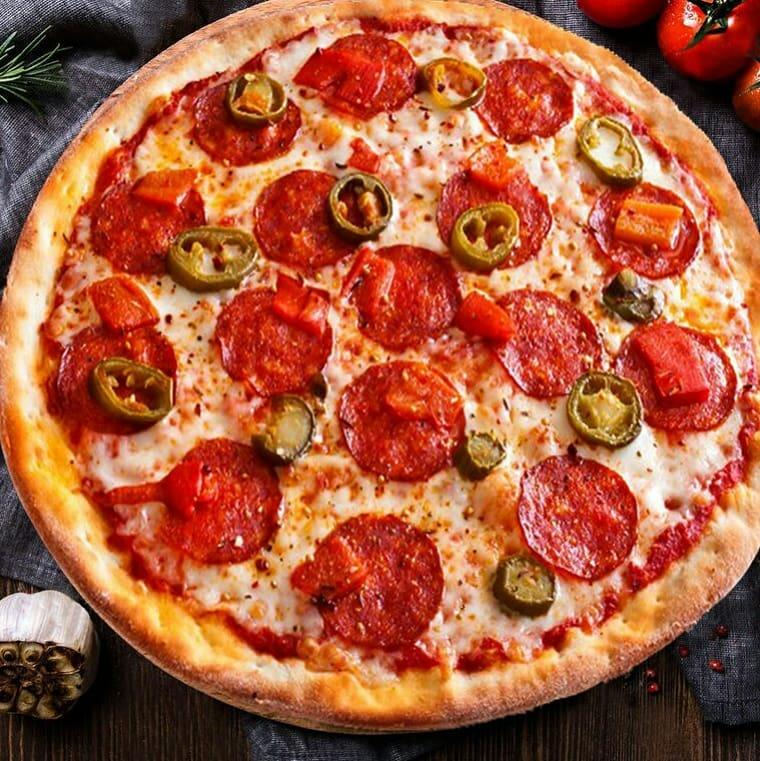Pepperoni: (321, 520, 443, 644), (343, 363, 461, 473), (165, 445, 276, 560), (524, 460, 636, 570), (356, 245, 458, 352), (493, 286, 595, 392), (588, 184, 700, 279), (626, 328, 734, 425), (222, 293, 330, 385), (437, 164, 549, 245), (96, 180, 199, 268), (65, 326, 173, 408), (324, 32, 420, 116), (195, 83, 299, 157), (256, 168, 332, 265), (486, 61, 573, 142)
Peppers: (90, 356, 175, 425), (568, 373, 641, 447), (170, 226, 260, 286), (252, 394, 317, 462), (454, 202, 523, 265), (580, 117, 642, 183), (331, 172, 392, 237), (428, 52, 485, 114), (498, 555, 554, 614), (233, 72, 289, 120), (461, 431, 506, 470)
Pizza: (0, 32, 760, 761)
Tomatoes: (289, 532, 374, 612), (387, 363, 461, 424), (341, 245, 398, 314), (653, 329, 703, 405), (274, 270, 329, 333), (90, 284, 160, 327), (615, 197, 679, 244), (459, 293, 517, 341), (127, 171, 196, 209), (466, 146, 526, 185), (346, 139, 381, 170)
